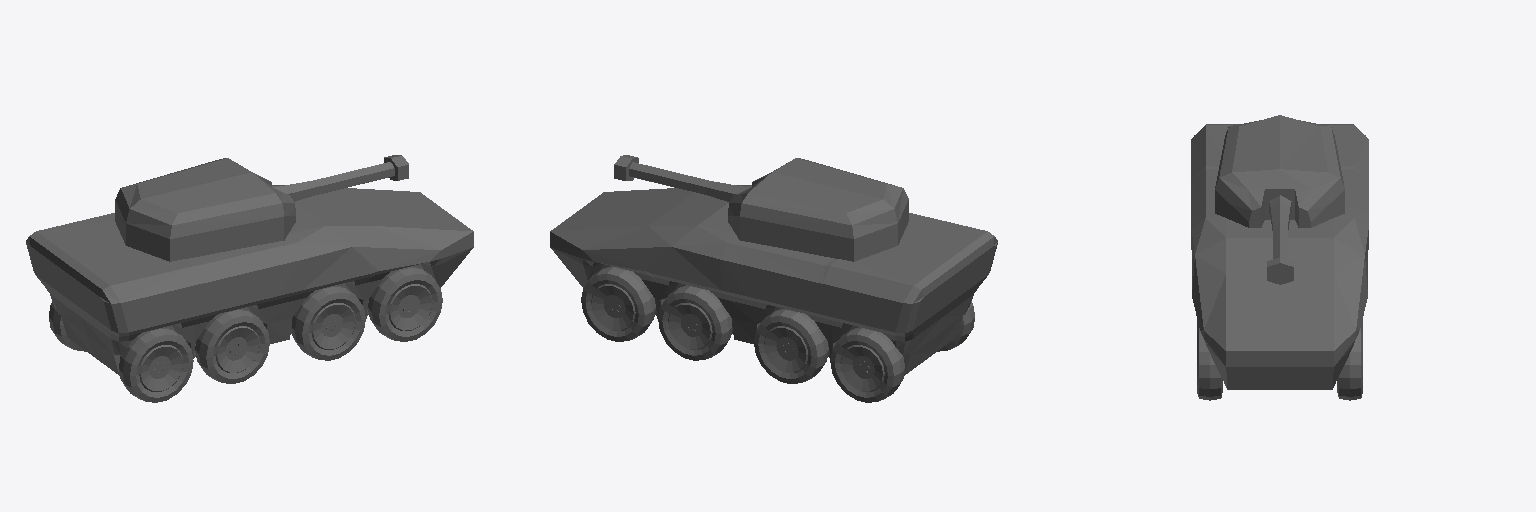
The model's file is bomber_model_comp.obj.
The picture shows the model from 3 angles: view 1: azimuth 30°, elevation 25°; view 2: azimuth 150°, elevation 25°; view 3: azimuth 270°, elevation 25°; orthographic projection.
Parts seen in each view (by area): view 1: Body, Turret, Tire_RB002, Tire_RF001, Tire_RB001, Tire_RF002, Barrel, Tire_LB002; view 2: Body, Turret, Tire_LB002, Tire_LF001, Tire_LB001, Tire_LF002, Barrel, Tire_RB002; view 3: Body, Turret, Barrel, Tire_RF001, Tire_LF001.
Boxes of the visible parts, x1,y1,x2,y2 form: Body: [26, 185, 473, 375]; Turret: [115, 158, 295, 261]; Tire_RB002: [119, 327, 193, 402]; Tire_RF001: [368, 266, 442, 341]; Tire_RB001: [195, 309, 269, 383]; Tire_RF002: [291, 285, 365, 360]; Barrel: [273, 155, 408, 201]; Tire_LB002: [49, 301, 85, 351]; Body: [550, 185, 997, 375]; Turret: [728, 158, 908, 261]; Tire_LB002: [830, 327, 904, 402]; Tire_LF001: [581, 266, 655, 341]; Tire_LB001: [754, 309, 828, 383]; Tire_LF002: [658, 285, 732, 360]; Barrel: [614, 155, 749, 201]; Tire_RB002: [938, 301, 974, 351]; Body: [1191, 124, 1368, 389]; Turret: [1215, 115, 1344, 227]; Barrel: [1267, 195, 1293, 284]; Tire_RF001: [1197, 326, 1222, 400]; Tire_LF001: [1337, 326, 1362, 400].
Size of the model in its own units: 87.16 by 37 by 35.04.